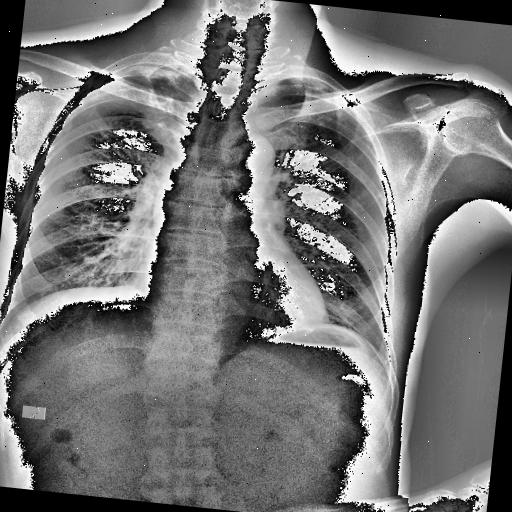1- Atelectasis: (123, 64, 188, 132)
11- Pleural thickening: (98, 58, 192, 92), (282, 70, 358, 108), (107, 58, 189, 84)
13- Pulmonary fibrosis: (122, 65, 188, 148), (124, 72, 196, 142), (123, 64, 188, 132), (293, 82, 349, 145)
6- Infiltration: (124, 72, 196, 142)
